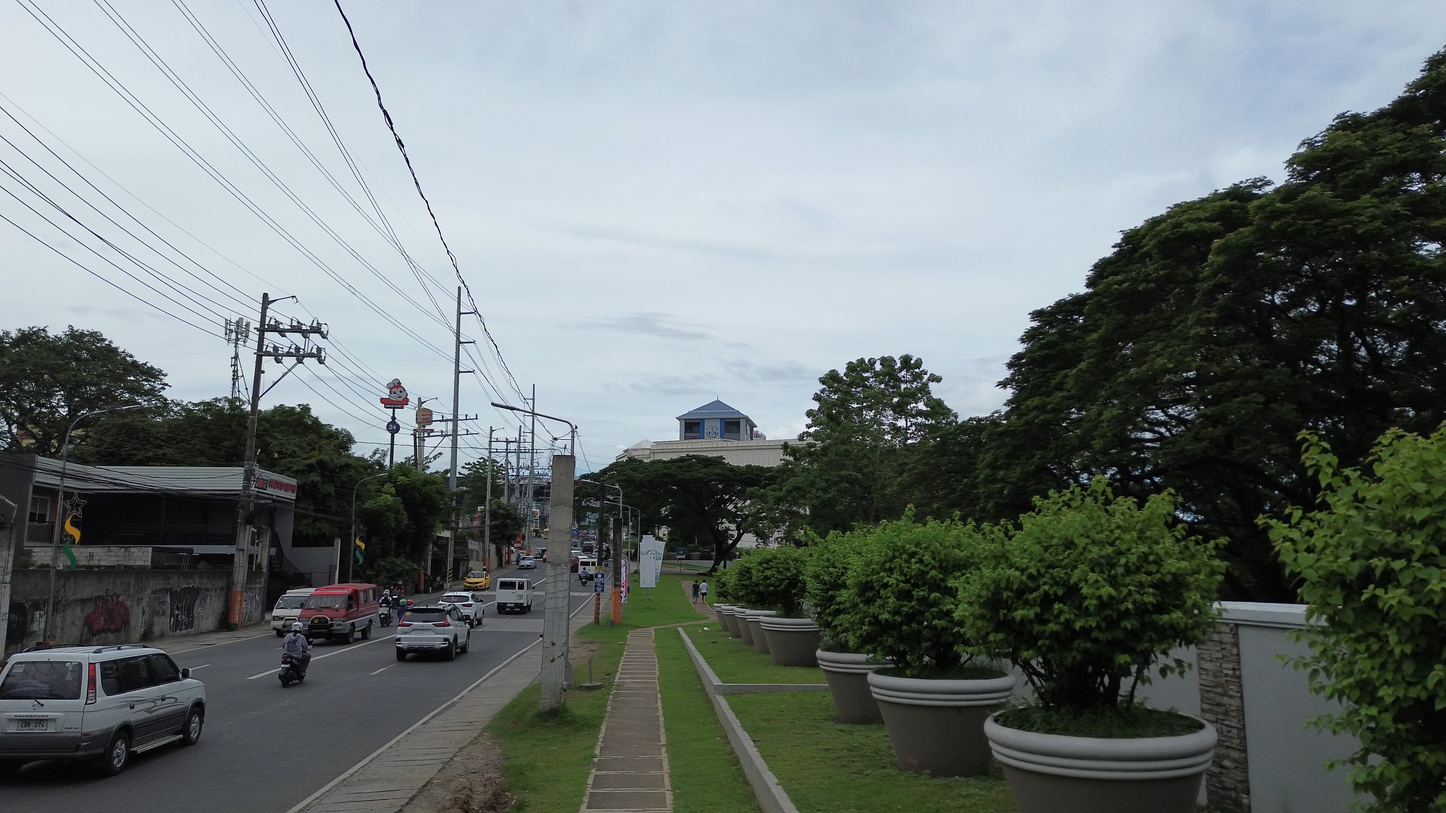motorcycle: (279, 653, 305, 687), (380, 606, 391, 627)
vehicle: (0, 644, 206, 775), (299, 583, 380, 642), (395, 605, 471, 660), (271, 588, 314, 636), (437, 592, 485, 626), (495, 578, 533, 613), (463, 569, 490, 590), (577, 557, 597, 583), (517, 557, 537, 569), (570, 551, 580, 572)
